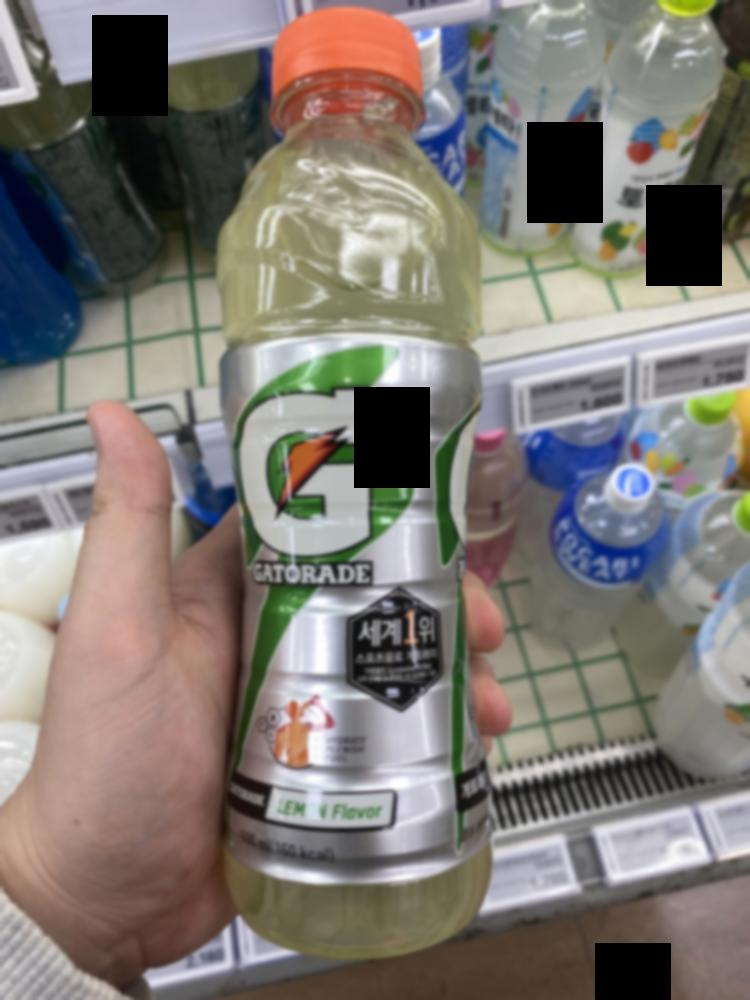gatorade_lemon: (198, 5, 505, 965)
